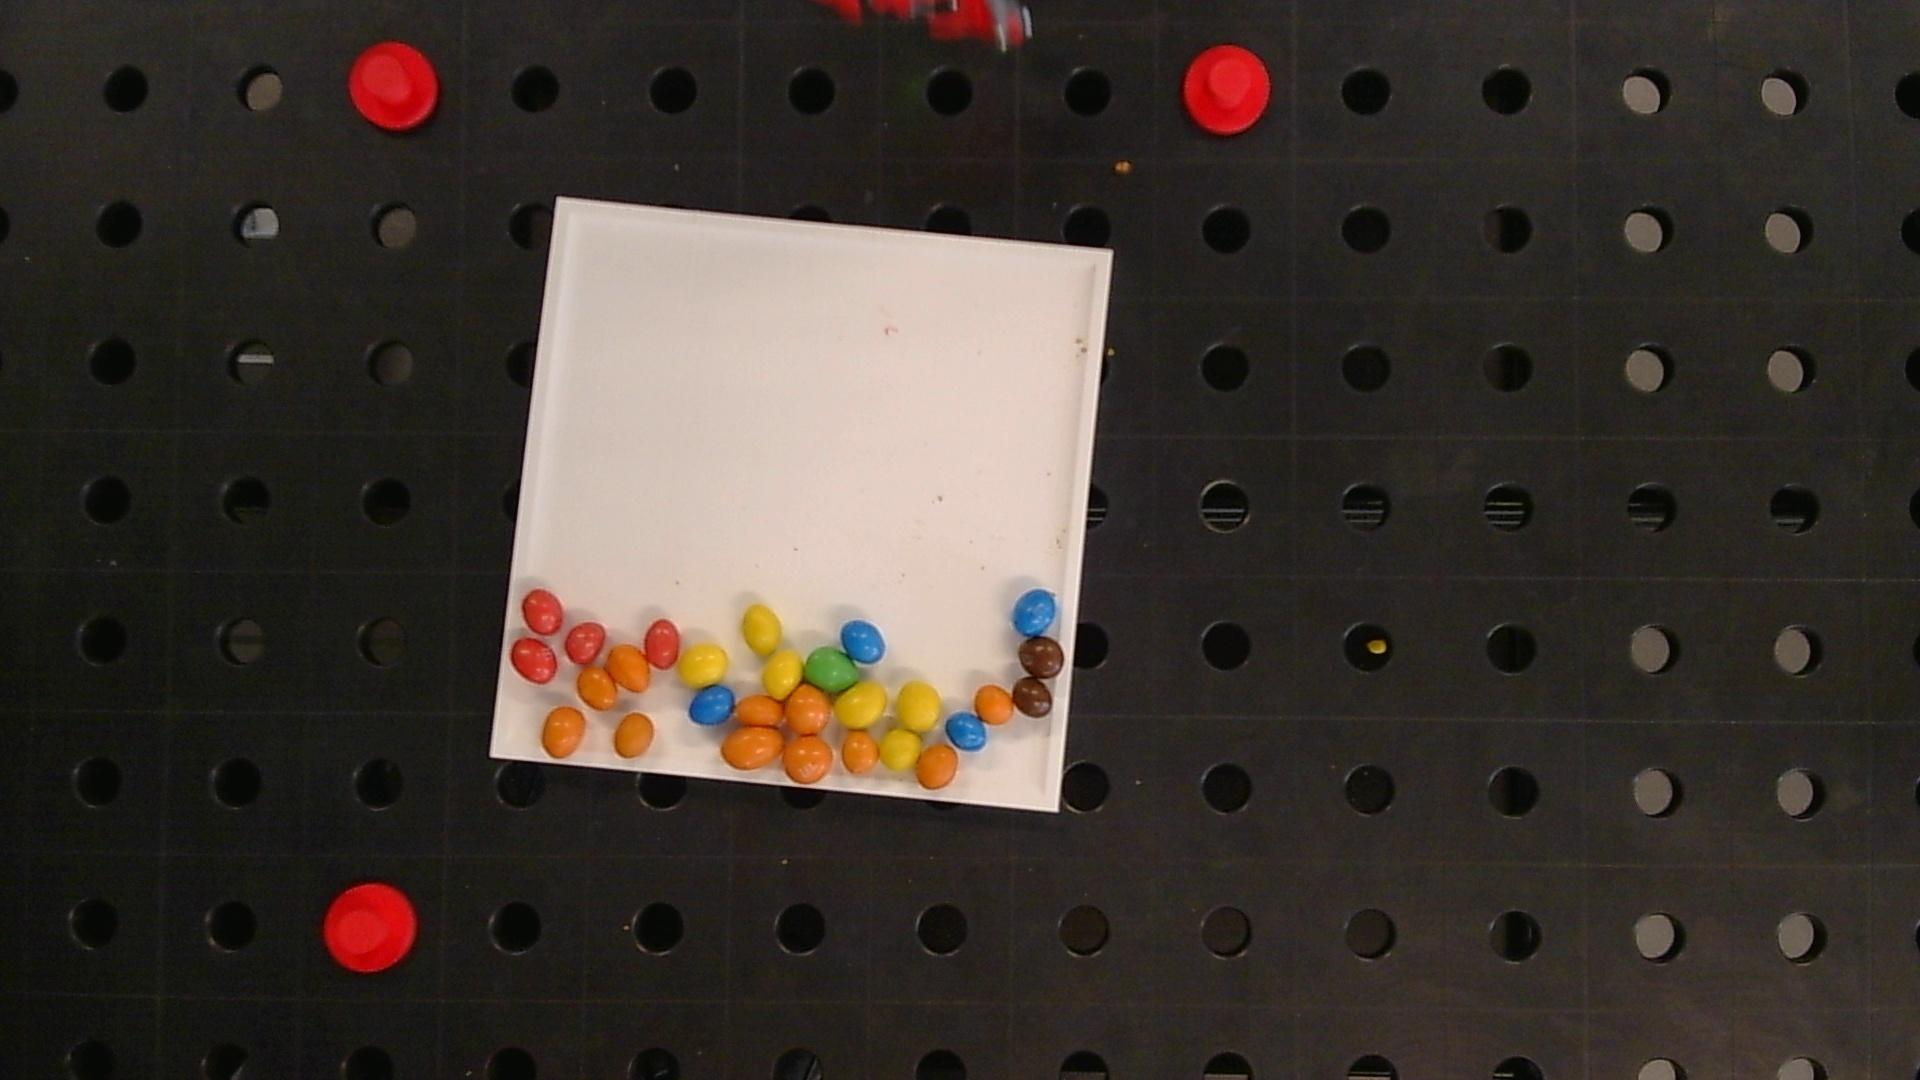blue: (1013, 589, 1056, 637), (841, 620, 885, 665), (688, 684, 736, 725), (945, 712, 986, 750)
brown: (1019, 637, 1064, 679), (1013, 678, 1054, 717)
green: (804, 647, 858, 692)
orange: (721, 727, 783, 769), (785, 686, 832, 735), (782, 737, 832, 783), (542, 707, 585, 757), (914, 741, 959, 787), (607, 645, 650, 692), (615, 712, 654, 757), (578, 667, 616, 709), (841, 732, 878, 774), (976, 684, 1014, 724), (736, 695, 783, 725)
red: (510, 638, 558, 683), (521, 589, 563, 634), (644, 618, 679, 669), (564, 621, 605, 663)
yellow: (835, 682, 886, 729), (897, 682, 942, 732), (679, 644, 728, 686), (744, 604, 782, 654), (764, 651, 802, 698), (880, 729, 920, 769)
